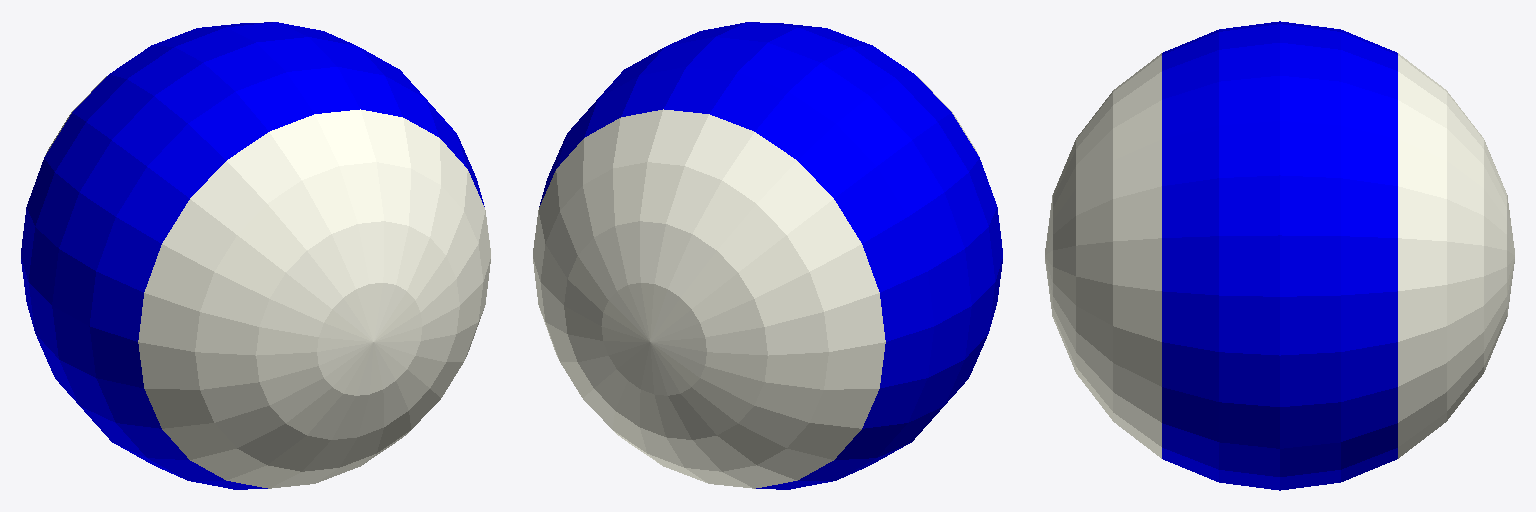
3 views of the same model, side by side, from view 1: azimuth 30°, elevation 25°; view 2: azimuth 150°, elevation 25°; view 3: azimuth 270°, elevation 25° (orthographic).
Visible parts, largest first — view 1: Mesh02_1, band1_3, top__10_1_9; view 2: Mesh01_0, band1_3, top__10_1_9; view 3: band1_3, Mesh01_0, Mesh02_1, top__10_1_9.
Part boxes in pixels (left/top/right/bottom): Mesh02_1: left=138, top=109, right=490, bottom=488; band1_3: left=21, top=23, right=484, bottom=488; top__10_1_9: left=156, top=22, right=355, bottom=107; Mesh01_0: left=533, top=109, right=885, bottom=488; band1_3: left=539, top=23, right=1002, bottom=488; top__10_1_9: left=668, top=22, right=867, bottom=107; band1_3: left=1162, top=21, right=1397, bottom=490; Mesh01_0: left=1398, top=53, right=1514, bottom=458; Mesh02_1: left=1045, top=53, right=1161, bottom=458; top__10_1_9: left=1180, top=22, right=1379, bottom=107.
Size of the model in its own units: 2.25 by 2.25 by 2.25.